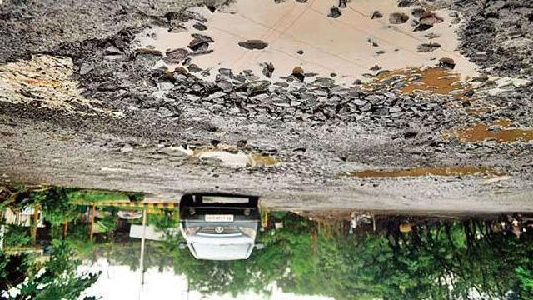pothole: (65, 0, 533, 126), (167, 140, 291, 177), (340, 160, 498, 181), (433, 122, 533, 151)
